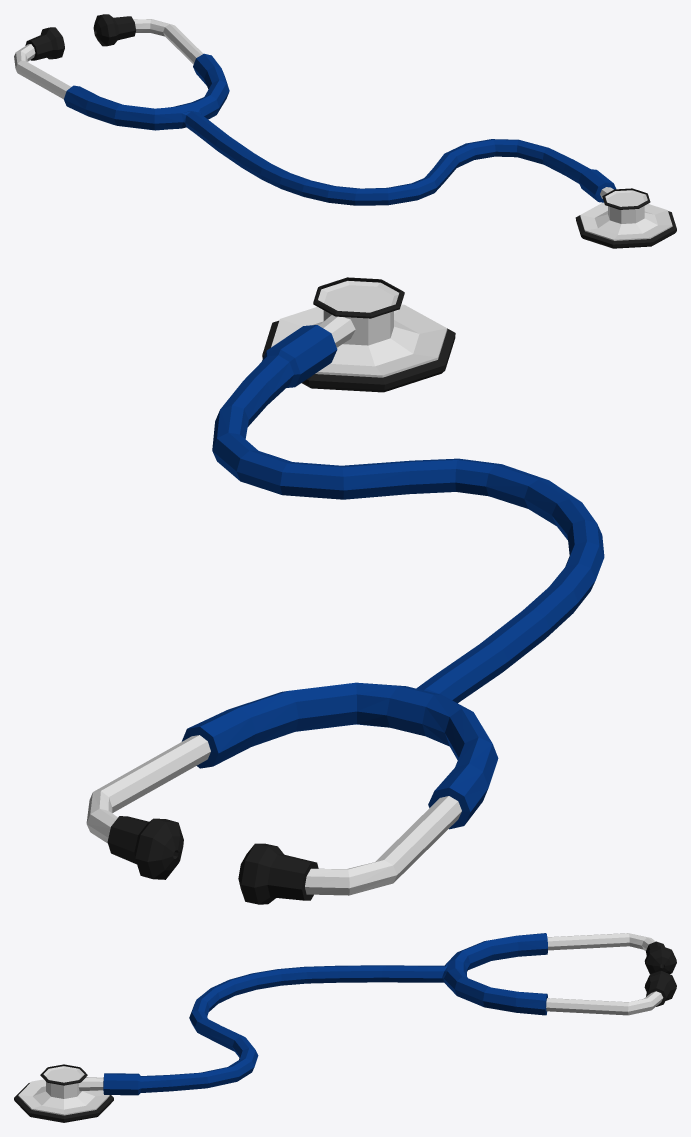
Rendered from stethescope.gltf.
3 renders of one model, top to bottom at view 1: azimuth 30°, elevation 25°; view 2: azimuth 150°, elevation 25°; view 3: azimuth 270°, elevation 25°, orthographic. The views are drawn at different scales.
Visible parts, largest first — view 1: node-0; view 2: node-0; view 3: node-0.
Part boxes in pixels (x1=…): node-0: x1=14, y1=14, x2=676, y2=248; node-0: x1=86, y1=277, x2=604, y2=904; node-0: x1=14, y1=933, x2=676, y2=1122.
Bounding box in the file's own units: 13.56 × 1.26 × 22.6.
